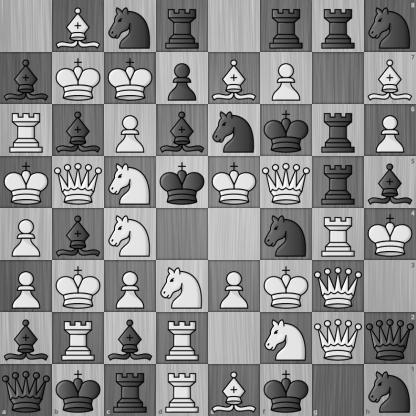B: (364, 52, 416, 104), (209, 364, 260, 416), (53, 1, 104, 52), (209, 53, 260, 104)
K: (364, 209, 416, 260), (1, 157, 52, 208), (53, 53, 104, 104), (53, 261, 104, 312), (105, 53, 156, 104), (209, 157, 260, 208), (261, 261, 312, 312)
N: (105, 157, 156, 208), (105, 209, 156, 260), (157, 261, 208, 312), (261, 313, 312, 364)
P: (364, 104, 416, 156), (1, 209, 52, 260), (1, 261, 52, 312), (105, 105, 156, 156), (105, 261, 156, 312), (209, 261, 260, 312), (261, 53, 312, 104)
Q: (53, 157, 104, 208), (261, 157, 312, 208), (313, 261, 364, 312), (313, 313, 364, 364)
R: (156, 364, 209, 416), (1, 105, 52, 156), (53, 313, 104, 364), (157, 313, 208, 364), (313, 209, 364, 260)
b: (364, 156, 416, 209), (1, 53, 52, 104), (1, 313, 52, 364), (53, 105, 104, 156), (53, 209, 104, 260), (105, 313, 156, 364), (157, 105, 208, 156)
board: (0, 0, 415, 415)
k: (52, 364, 104, 416), (260, 364, 312, 416), (157, 157, 208, 208), (261, 105, 312, 156)
n: (364, 0, 416, 52), (364, 364, 416, 416), (105, 1, 156, 52), (209, 105, 260, 156), (261, 209, 312, 260)
p: (157, 53, 208, 104)
q: (0, 364, 52, 416), (364, 312, 416, 364)
r: (104, 364, 156, 416), (157, 1, 208, 52), (261, 1, 312, 52), (313, 1, 364, 52), (313, 105, 364, 156), (313, 157, 364, 208)
